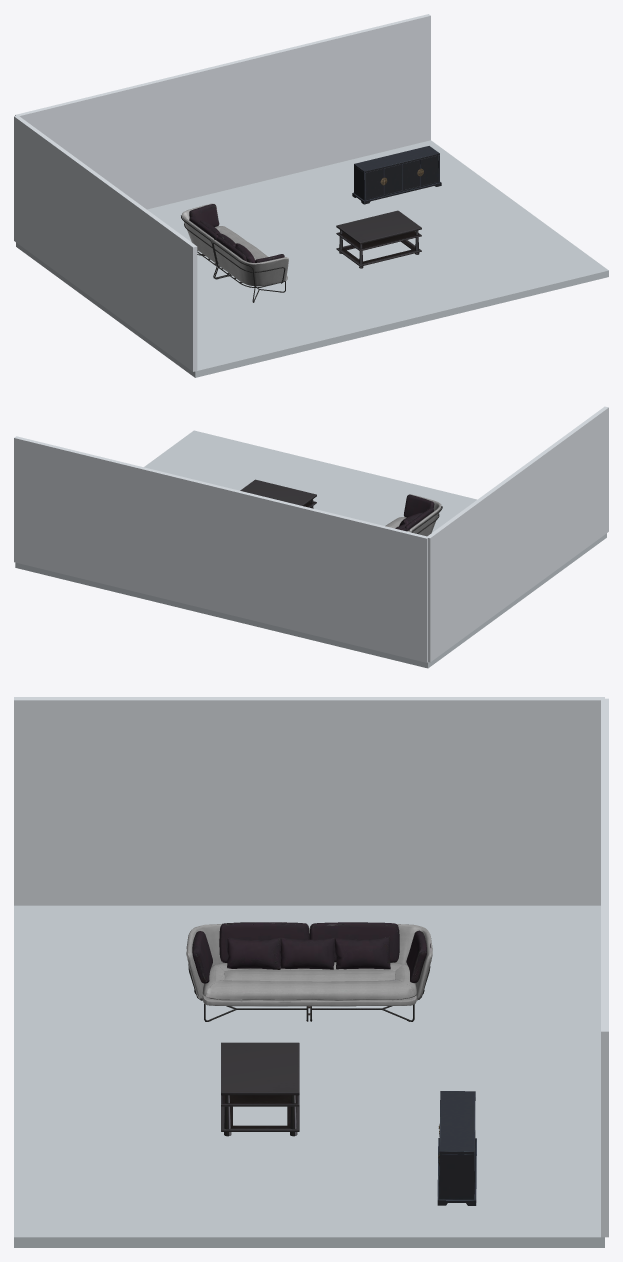
Rendered from stage1.glb.
3 views of the same model, one above another, from view 1: azimuth 30°, elevation 25°; view 2: azimuth 150°, elevation 25°; view 3: azimuth 270°, elevation 25° (orthographic). The views are drawn at different scales.
Parts seen in each view (by area): view 1: Floor, wall_back, wall_left, raw_model, raw_model.002, raw_model.001; view 2: wall_back, wall_left, Floor, raw_model, raw_model.001; view 3: Floor, wall_left, raw_model, raw_model.001, raw_model.002, wall_back.
Boxes of the visible parts, left/top/right/bottom form: Floor: left=16, top=140, right=608, bottom=377; wall_back: left=15, top=14, right=430, bottom=209; wall_left: left=14, top=116, right=197, bottom=371; raw_model: left=181, top=203, right=288, bottom=302; raw_model.002: left=352, top=146, right=441, bottom=204; raw_model.001: left=336, top=210, right=421, bottom=268; wall_back: left=14, top=436, right=428, bottom=662; wall_left: left=427, top=406, right=608, bottom=662; Floor: left=15, top=430, right=606, bottom=668; raw_model: left=385, top=494, right=442, bottom=536; raw_model.001: left=240, top=479, right=316, bottom=508; Floor: left=14, top=905, right=604, bottom=1247; wall_left: left=14, top=697, right=604, bottom=905; raw_model: left=186, top=922, right=432, bottom=1021; raw_model.001: left=221, top=1042, right=299, bottom=1136; raw_model.002: left=437, top=1091, right=476, bottom=1205; wall_back: left=601, top=698, right=608, bottom=1237.
Bounding box in the file's own units: 8.04 × 2.42 × 6.04.
Materials: 5 (3 with a texture image).
